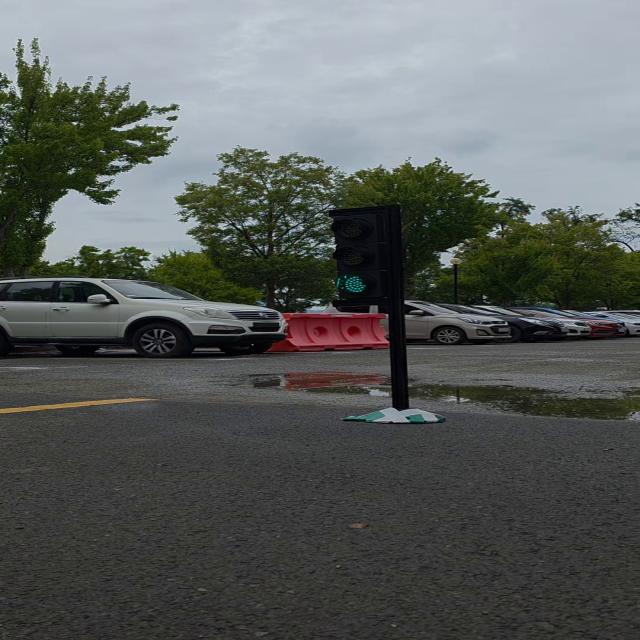green: (333, 208, 406, 306)
